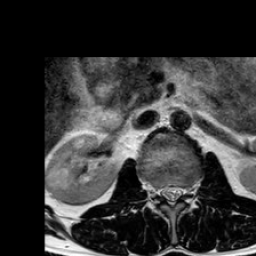CCS_normal: (168, 176, 175, 212)
LFS_normal: (183, 177, 191, 202)
LLS_normal: (175, 176, 183, 205)
RFS_normal: (152, 177, 160, 203)
RLS_normal: (160, 176, 168, 205)
